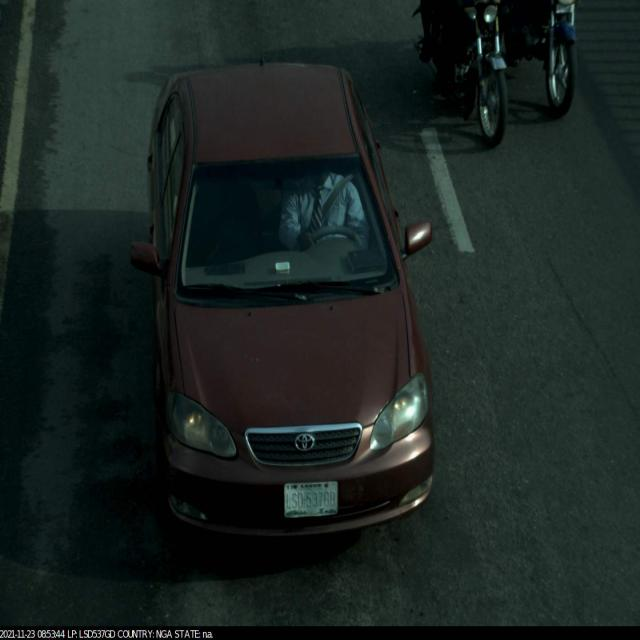windshield: (160, 138, 417, 316)
